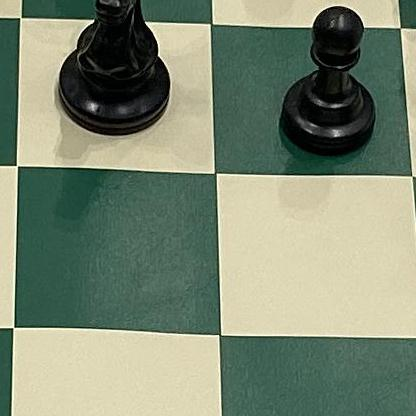black-knight: (55, 0, 186, 139)
black-pawn: (265, 0, 383, 168)
